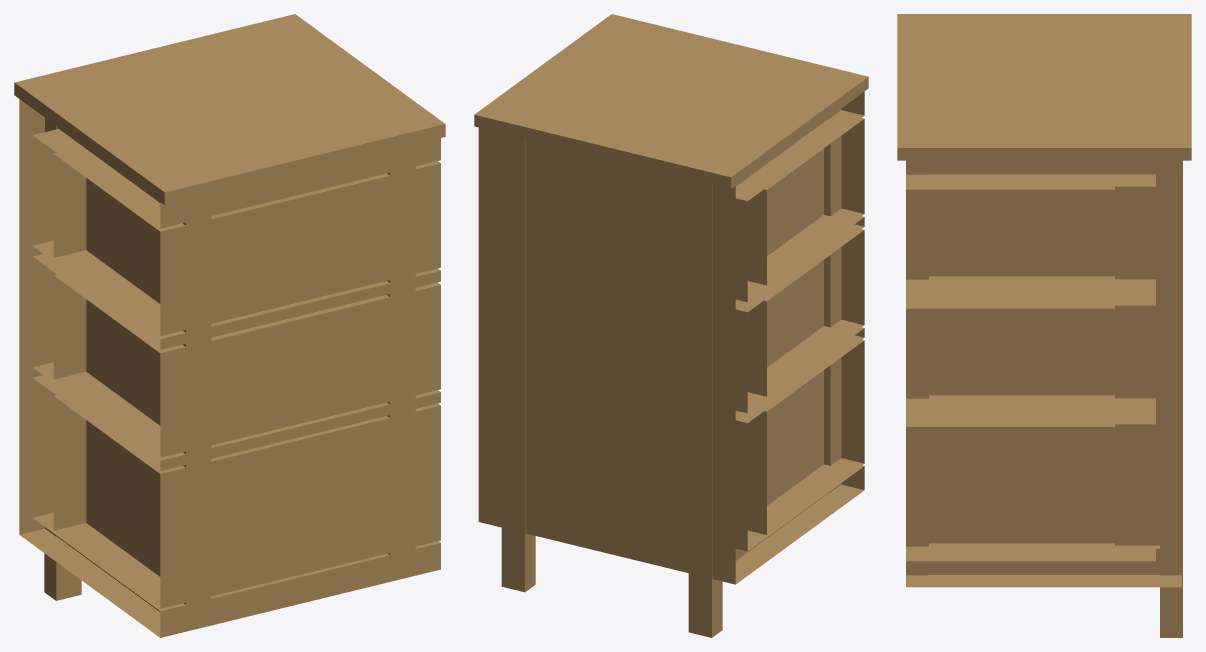
The model's file is storage7.obj.
The picture shows the model from 3 angles, left to right: view 1: azimuth 30°, elevation 25°; view 2: azimuth 150°, elevation 25°; view 3: azimuth 270°, elevation 25°; orthographic projection. The views are drawn at different scales.
Parts seen in each view (by area): view 1: storage7; view 2: storage7; view 3: storage7.
Part boxes in pixels (x1,y1,x2,y2): storage7: (14, 14, 445, 637); storage7: (474, 14, 868, 637); storage7: (897, 14, 1191, 637).
Bounding box in the file's own units: 0.55 × 0.96 × 0.51.
